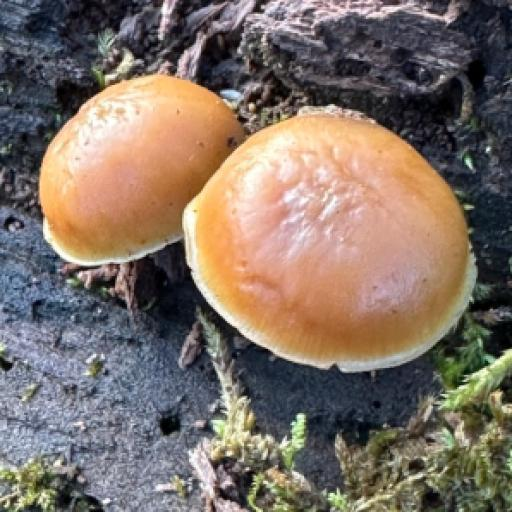mushroom: (34, 64, 483, 384)
